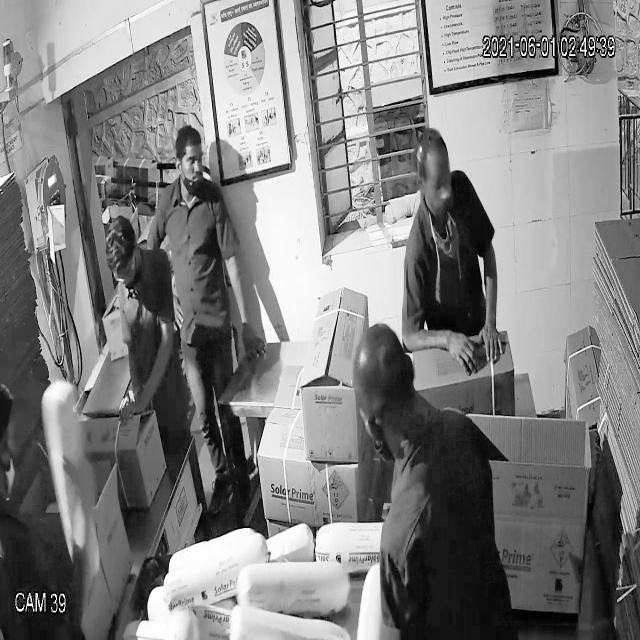Gafas: (106, 255, 143, 287)
Sin_gafas: (414, 164, 458, 203), (171, 149, 210, 176)
